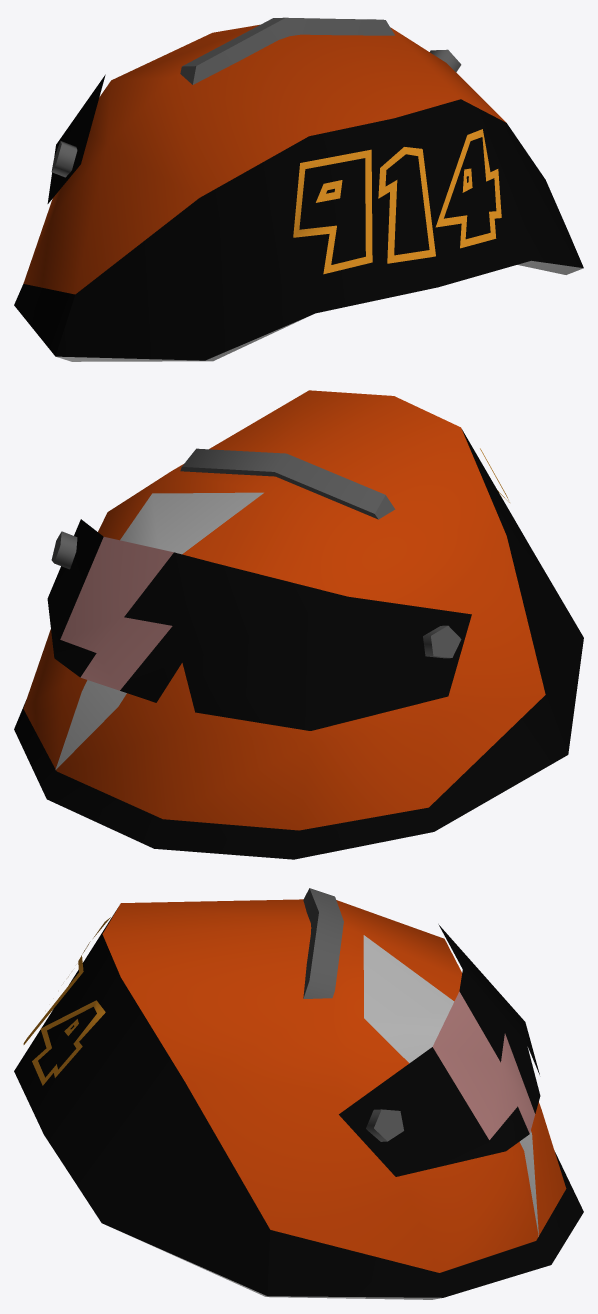
File: hat_lightninghelm.glb
3 views of the same model, one above another, from view 1: azimuth 30°, elevation 25°; view 2: azimuth 150°, elevation 25°; view 3: azimuth 270°, elevation 25° (orthographic).
Parts seen in each view (by area): view 1: hat_lightninghelm; view 2: hat_lightninghelm; view 3: hat_lightninghelm.
Part boxes in pixels (x1,y1,x2,y2): hat_lightninghelm: [14, 17, 583, 361]; hat_lightninghelm: [14, 390, 583, 859]; hat_lightninghelm: [14, 888, 583, 1299].
Size of the model in its own units: 0.454 by 0.2624 by 0.4357.
